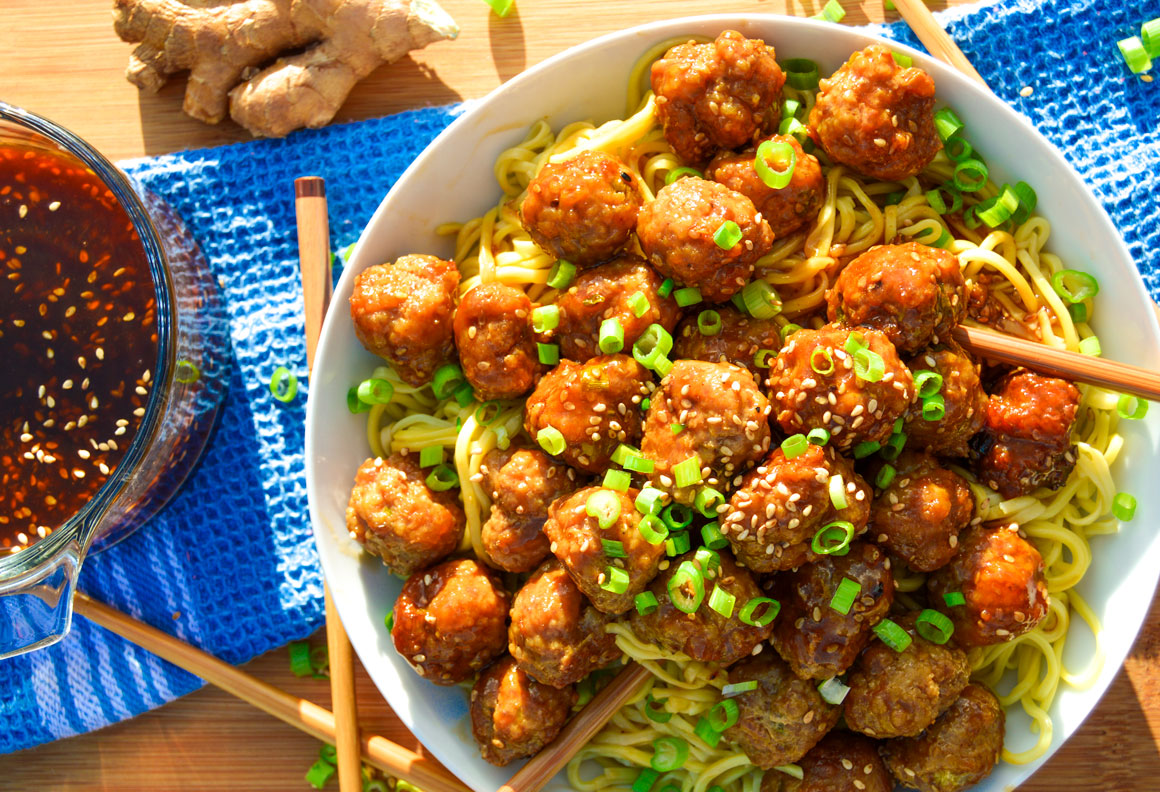meatballs: (520, 161, 761, 294), (837, 226, 967, 363), (463, 289, 576, 414), (657, 38, 779, 153), (843, 636, 961, 744)
plain spaghetti: (606, 689, 734, 789)
